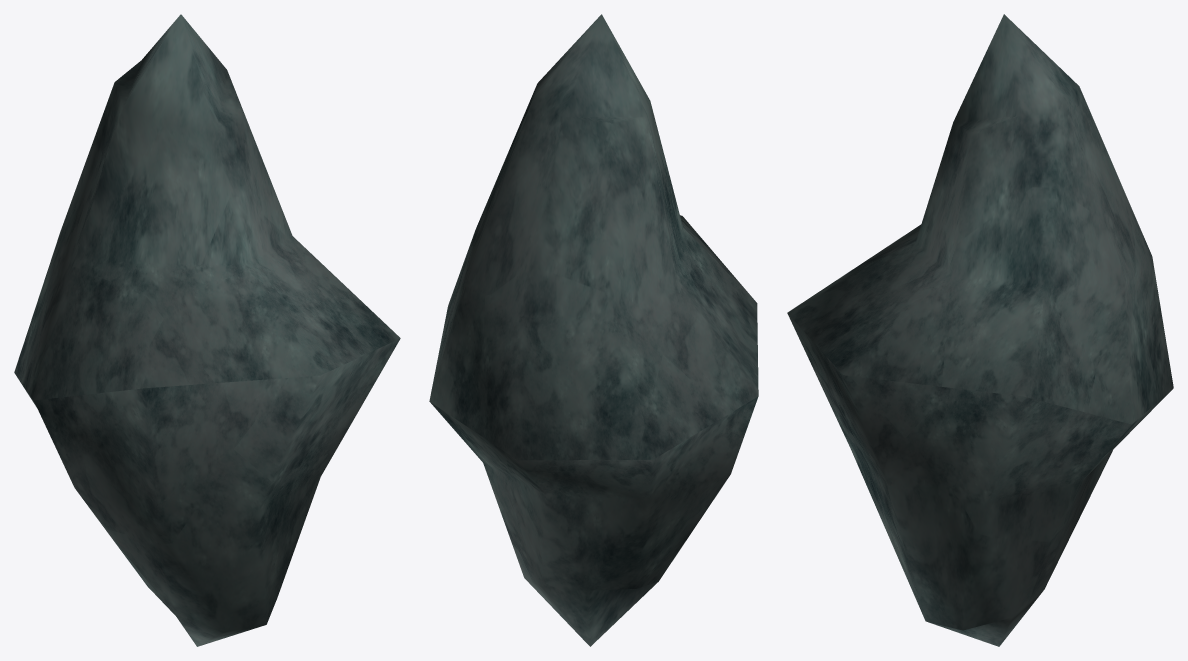
File: Rock_01_Art.fbx
The picture shows the model from 3 angles, left to right: view 1: azimuth 30°, elevation 25°; view 2: azimuth 150°, elevation 25°; view 3: azimuth 270°, elevation 25°; orthographic projection.
Parts seen in each view (by area): view 1: Rock_01; view 2: Rock_01; view 3: Rock_01.
Boxes of the visible parts, left/top/right/bottom form: Rock_01: left=14, top=14, right=400, bottom=646; Rock_01: left=429, top=14, right=758, bottom=646; Rock_01: left=787, top=14, right=1173, bottom=646.
Size of the model in its own units: 380 by 783 by 438.
